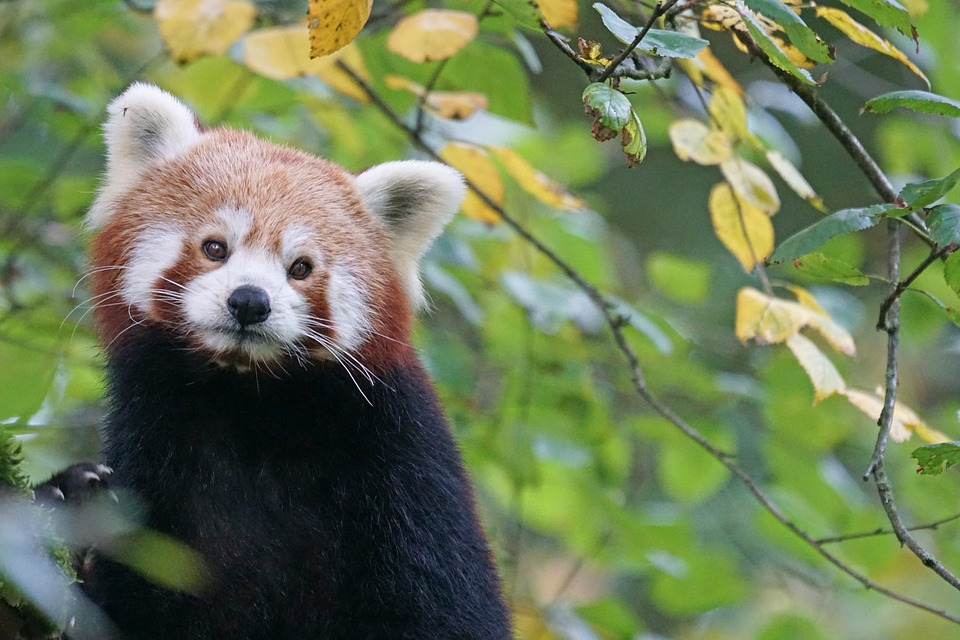red_panda: (71, 85, 512, 640)
